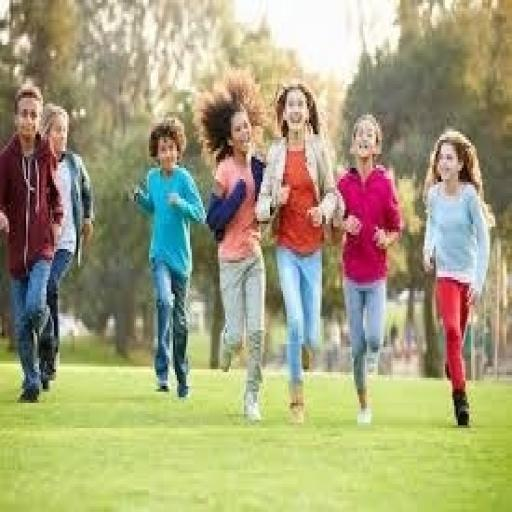running: (253, 78, 341, 428), (196, 70, 280, 425), (419, 126, 497, 431), (331, 112, 406, 428), (128, 112, 208, 403), (0, 81, 65, 406), (37, 101, 97, 389)
